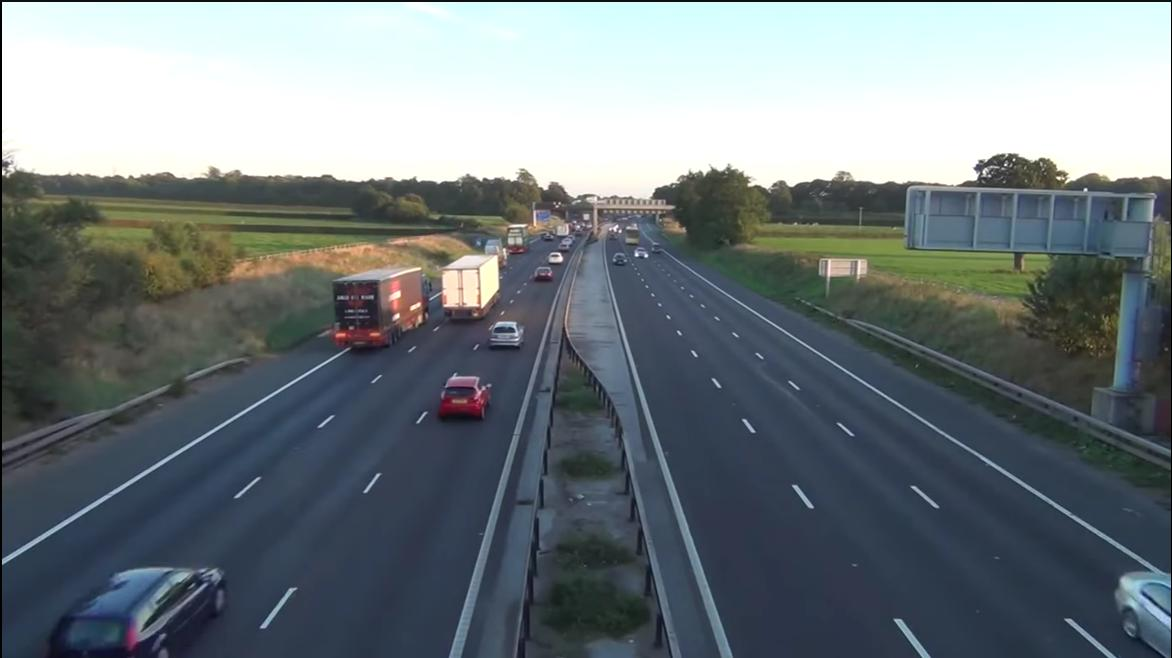car: (480, 309, 535, 350)
truck: (430, 220, 537, 350), (330, 266, 447, 384)
